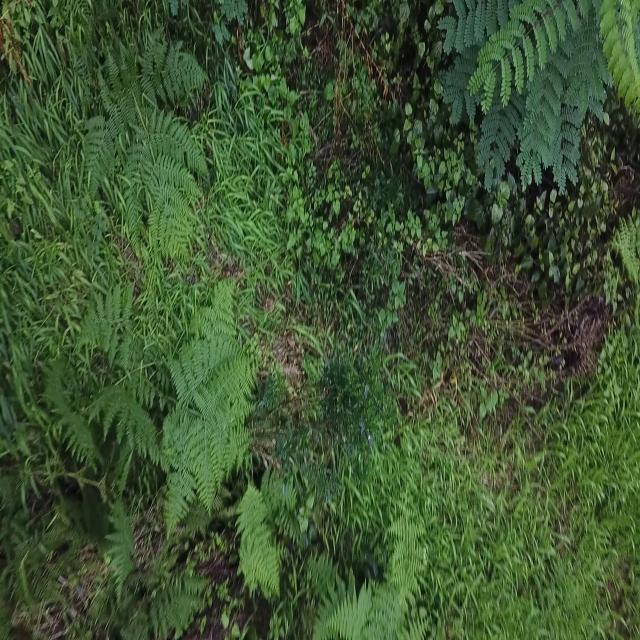Mysore-Thorn-Weed: (433, 0, 640, 205)
